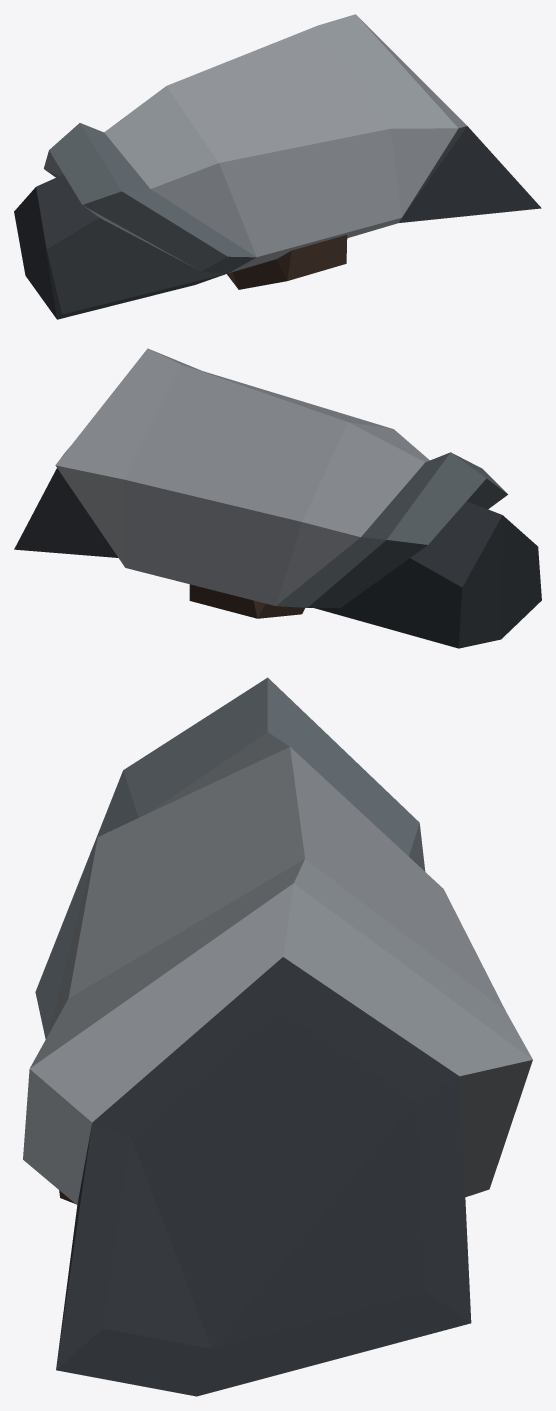
The model's file is Chr_ArmUpperRight_Female_06_Static.fbx.
The picture shows the model from 3 angles, top to bottom: view 1: azimuth 30°, elevation 25°; view 2: azimuth 150°, elevation 25°; view 3: azimuth 270°, elevation 25°; orthographic projection. The views are drawn at different scales.
Visible parts, largest first — view 1: Chr_ArmUpperRight_Female_06_Static; view 2: Chr_ArmUpperRight_Female_06_Static; view 3: Chr_ArmUpperRight_Female_06_Static.
Boxes of the visible parts, <box> form: Chr_ArmUpperRight_Female_06_Static: <box>14,14,541,319</box>; Chr_ArmUpperRight_Female_06_Static: <box>14,348,541,648</box>; Chr_ArmUpperRight_Female_06_Static: <box>23,677,532,1396</box>.
Size of the model in its own units: 0.3535 by 0.168 by 0.1671.
